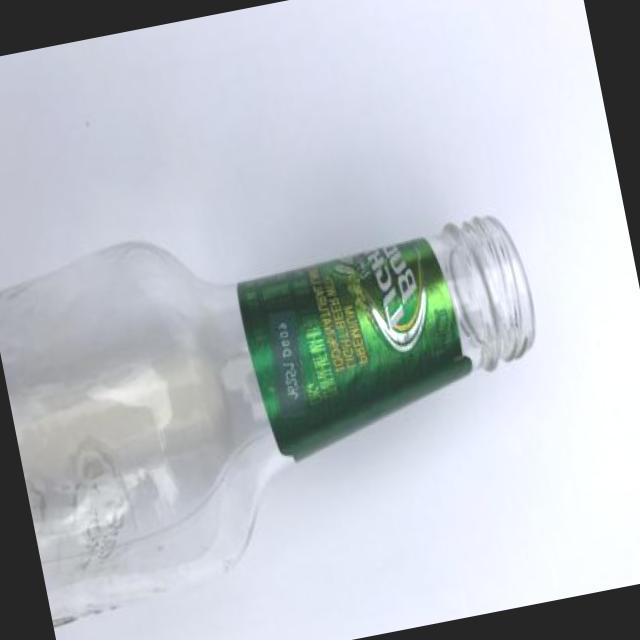chai_thuy_tinh: (0, 218, 536, 631)
